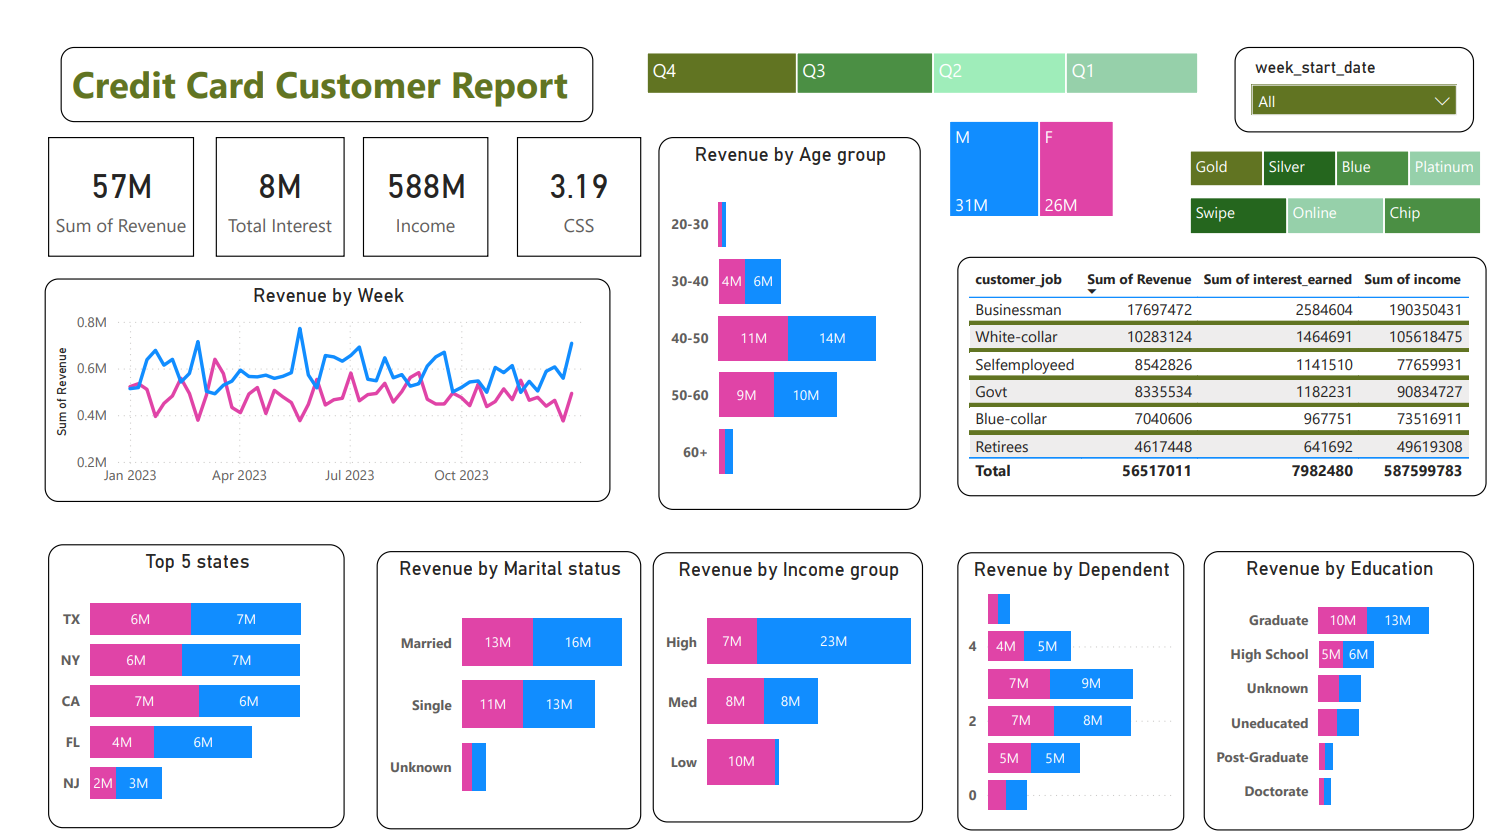

This screenshot's page, from the dashboard's own definition file:
{"tool":"powerbi","page":{"name":"CC Customer","canvas":[1280,720],"ordinal":2},"visuals":[{"type":"textbox","box":[30.2,17.8,466.6,65.9],"z":0},{"type":"barChart","title":" Revenue by Income group","fields":{"Y":["Sum(public cc_detail.Revenue)"],"Category":["public cust_detail.IncomeGroup"],"Series":["public cust_detail.gender"]},"box":[548.9,461.1,237.4,237.4],"z":1000},{"type":"tableEx","fields":{"Values":["public cust_detail.customer_job","Sum(public cc_detail.Revenue)","Sum(public cc_detail.interest_earned)","public cust_detail.income"]},"box":[816.5,201.7,463.8,209.9],"z":2000},{"type":"slicer","fields":{"Values":["public cc_detail.week_start_date"]},"box":[1059.4,17.8,209.9,75.5],"z":3000},{"type":"treemap","fields":{"Group":["public cc_detail.qtr"],"Values":["Avg(public cc_detail.client_num)"]},"box":[539.3,17.8,492.6,46.7],"z":4000},{"type":"card","fields":{"Values":["Sum(public cc_detail.Revenue)"]},"box":[19.2,97.4,127.6,104.3],"z":5000},{"type":"card","fields":{"Values":["Sum(public cc_detail.interest_earned)"]},"box":[166,97.4,112.5,104.3],"z":6000},{"type":"card","fields":{"Values":["Sum(public cust_detail.income)"]},"box":[295,97.4,109.8,104.3],"z":7000},{"type":"card","fields":{"Values":["Avg(public cust_detail.cust_satisfaction_score)"]},"box":[429.5,97.4,109.8,104.3],"z":8000},{"type":"treemap","fields":{"Group":["public cc_detail.card_category"],"Values":["Avg(public cc_detail.client_num)"]},"box":[1015.4,104.3,264.8,41.2],"z":9000},{"type":"lineChart","title":"Revenue by Week","fields":{"Y":["Sum(public cc_detail.Revenue)"],"Series":["public cust_detail.gender"],"Category":["public cc_detail.week_start_date.Variation.Date Hierarchy.Year","public cc_detail.week_start_date.Variation.Date Hierarchy.Month","public cc_detail.week_start_date.Variation.Date Hierarchy.Day"]},"box":[16.5,220.9,495.4,196.2],"z":10000},{"type":"treemap","fields":{"Group":["public cust_detail.gender"],"Values":["Sum(public cc_detail.Revenue)"]},"box":[804.1,78.2,153.7,93.3],"z":11000},{"type":"barChart","title":" Revenue by Age group","fields":{"Y":["Sum(public cc_detail.Revenue)"],"Category":["public cust_detail.Age_Group"],"Series":["public cust_detail.gender"]},"box":[554.4,97.4,229.2,326.6],"z":12000},{"type":"barChart","title":" Revenue by Education","fields":{"Y":["Sum(public cc_detail.Revenue)"],"Category":["public cust_detail.education_level"],"Series":["public cust_detail.gender"]},"box":[1031.9,459.7,237.4,245.6],"z":13000},{"type":"barChart","title":"Top 5 states","fields":{"Y":["Sum(public cc_detail.Revenue)"],"Category":["public cust_detail.state_cd"],"Series":["public cust_detail.gender"]},"box":[19.2,454.2,259.3,248.4],"z":14000},{"type":"barChart","title":" Revenue by Marital status","fields":{"Y":["Sum(public cc_detail.Revenue)"],"Category":["public cust_detail.marital_status"],"Series":["public cust_detail.gender"]},"box":[307.4,459.7,231.9,244.3],"z":15000},{"type":"barChart","title":" Revenue by Dependent","fields":{"Y":["Sum(public cc_detail.Revenue)"],"Category":["public cust_detail.dependent_count"],"Series":["public cust_detail.gender"]},"box":[816.5,461.1,199,244.3],"z":16000},{"type":"treemap","fields":{"Group":["public cc_detail.use_chip"],"Values":["Avg(public cc_detail.client_num)"]},"box":[1015.4,145.5,264.8,41.2],"z":17000}]}

Visuals, with their boxes in screenshot pixels (x1, y1, x2, y2), scaled from the page's 1280x720 canvas onto the 1509x834 screenshot:
textbox: locate(36, 21, 586, 97)
" Revenue by Income group" barChart: locate(647, 534, 927, 809)
tableEx - public cust_detail.customer_job x Sum(public cc_detail.Revenue): locate(963, 234, 1508, 477)
slicer - public cc_detail.week_start_date: locate(1249, 21, 1496, 108)
treemap - public cc_detail.qtr x Avg(public cc_detail.client_num): locate(636, 21, 1217, 75)
card - Sum(public cc_detail.Revenue): locate(23, 113, 173, 234)
card - Sum(public cc_detail.interest_earned): locate(196, 113, 328, 234)
card - Sum(public cust_detail.income): locate(348, 113, 477, 234)
card - Avg(public cust_detail.cust_satisfaction_score): locate(506, 113, 636, 234)
treemap - public cc_detail.card_category x Avg(public cc_detail.client_num): locate(1197, 121, 1508, 169)
"Revenue by Week" lineChart: locate(19, 256, 603, 483)
treemap - public cust_detail.gender x Sum(public cc_detail.Revenue): locate(948, 91, 1129, 199)
" Revenue by Age group" barChart: locate(654, 113, 924, 491)
" Revenue by Education" barChart: locate(1217, 532, 1496, 817)
"Top 5 states" barChart: locate(23, 526, 328, 814)
" Revenue by Marital status" barChart: locate(362, 532, 636, 815)
" Revenue by Dependent" barChart: locate(963, 534, 1197, 817)
treemap - public cc_detail.use_chip x Avg(public cc_detail.client_num): locate(1197, 169, 1508, 216)
